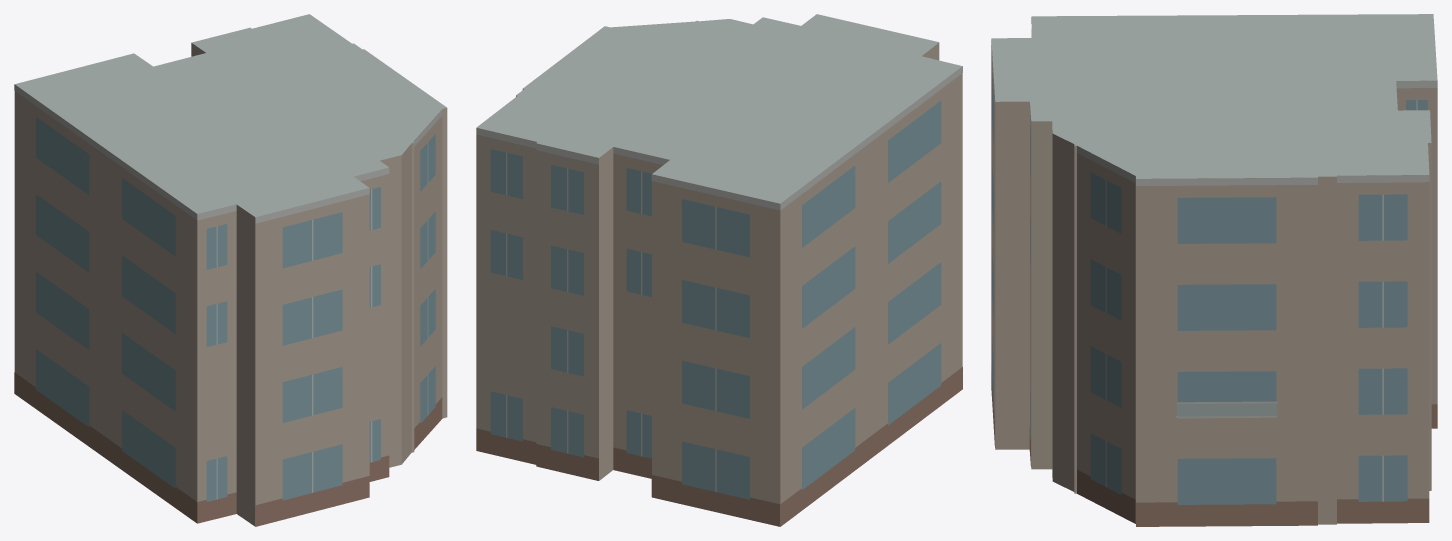
Rendered from survey-upis-32949598.glb.
3 views of the same model, side by side, from view 1: azimuth 30°, elevation 25°; view 2: azimuth 150°, elevation 25°; view 3: azimuth 270°, elevation 25° (orthographic). The views are drawn at different scales.
Visible parts, largest first — view 1: survey-upis-32949598.tmp; view 2: survey-upis-32949598.tmp; view 3: survey-upis-32949598.tmp.
Part boxes in pixels (<box>): survey-upis-32949598.tmp: <box>14,14,447,526</box>; survey-upis-32949598.tmp: <box>476,14,962,526</box>; survey-upis-32949598.tmp: <box>991,14,1437,526</box>.
Size of the model in its own units: 11.91 by 11.7 by 13.61.
